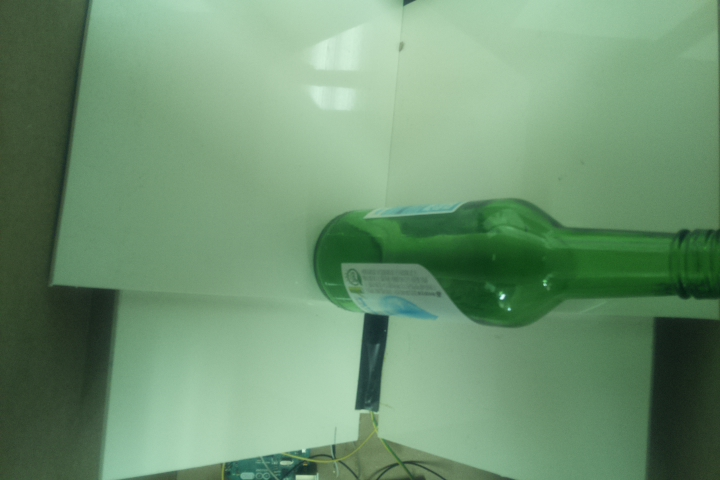soju: (313, 196, 720, 330)
